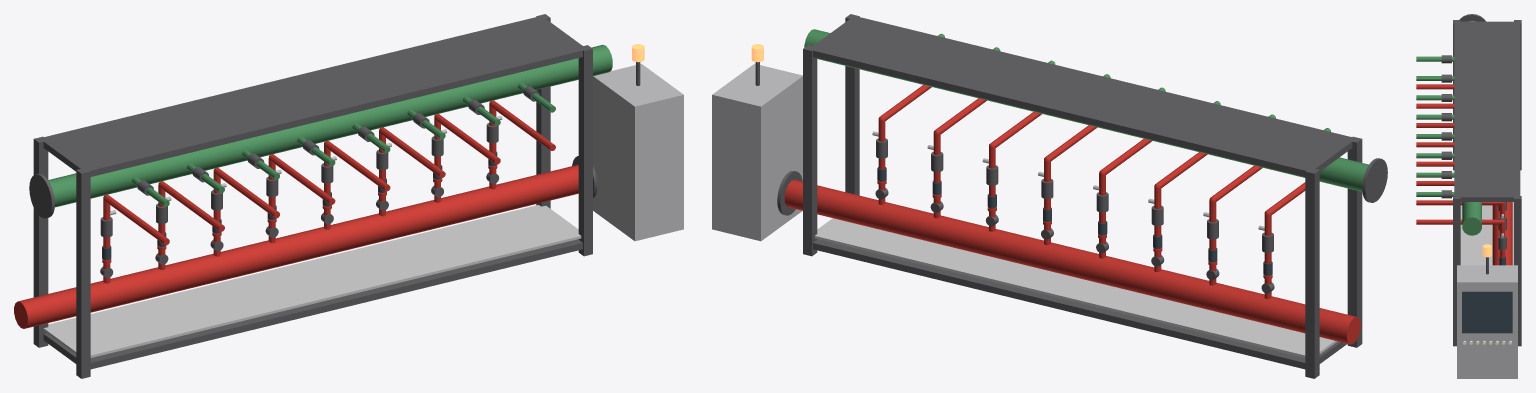
File: SM_LeakDetectionManifold.fbx
3 renders of one model, left to right at view 1: azimuth 30°, elevation 25°; view 2: azimuth 150°, elevation 25°; view 3: azimuth 270°, elevation 25°, orthographic. The views are drawn at different scales.
Visible parts, largest first — view 1: LDM_Rack; view 2: LDM_Rack; view 3: LDM_Rack, LDM_Beacon.
Part boxes in pixels (left/top/right/bottom): LDM_Rack: left=14, top=14, right=683, bottom=378; LDM_Rack: left=712, top=14, right=1387, bottom=378; LDM_Rack: left=1416, top=14, right=1521, bottom=378; LDM_Beacon: left=1482, top=244, right=1491, bottom=274.
Size of the model in its own units: 1038 by 320 by 208.
